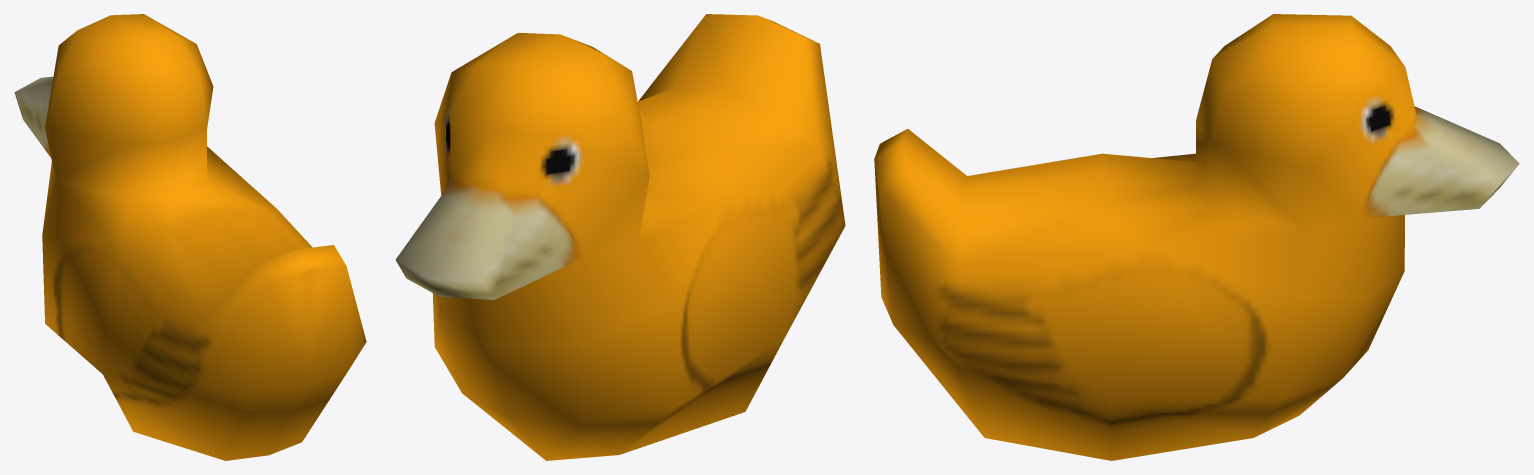
Rendered from OrangeRubberducky.fbx.
3 renders of one model, left to right at view 1: azimuth 30°, elevation 25°; view 2: azimuth 150°, elevation 25°; view 3: azimuth 270°, elevation 25°, orthographic. The views are drawn at different scales.
Visible parts, largest first — view 1: Object; view 2: Object; view 3: Object.
Part boxes in pixels (x1,y1,x2,y2): Object: [14, 14, 366, 460]; Object: [395, 14, 845, 460]; Object: [874, 14, 1519, 460].
Bounding box in the file's own units: 0.0718 × 0.1034 × 0.155.
